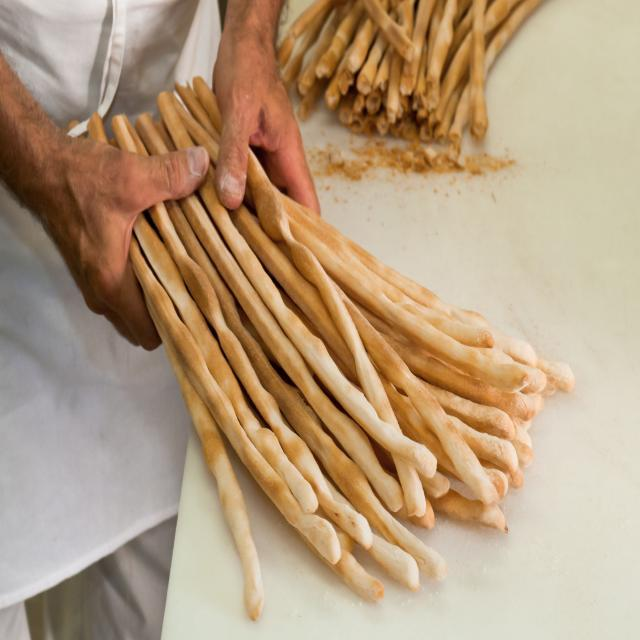Grissini: (94, 84, 582, 627)
